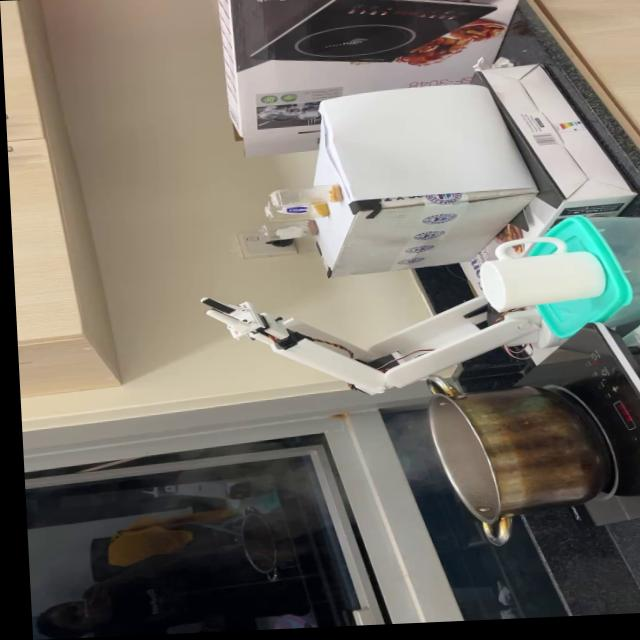cooking_pot: (421, 364, 594, 554)
curry_powder: (310, 205, 329, 219)
garlic_powder: (326, 183, 342, 206)
maggie_open: (305, 223, 319, 239)
